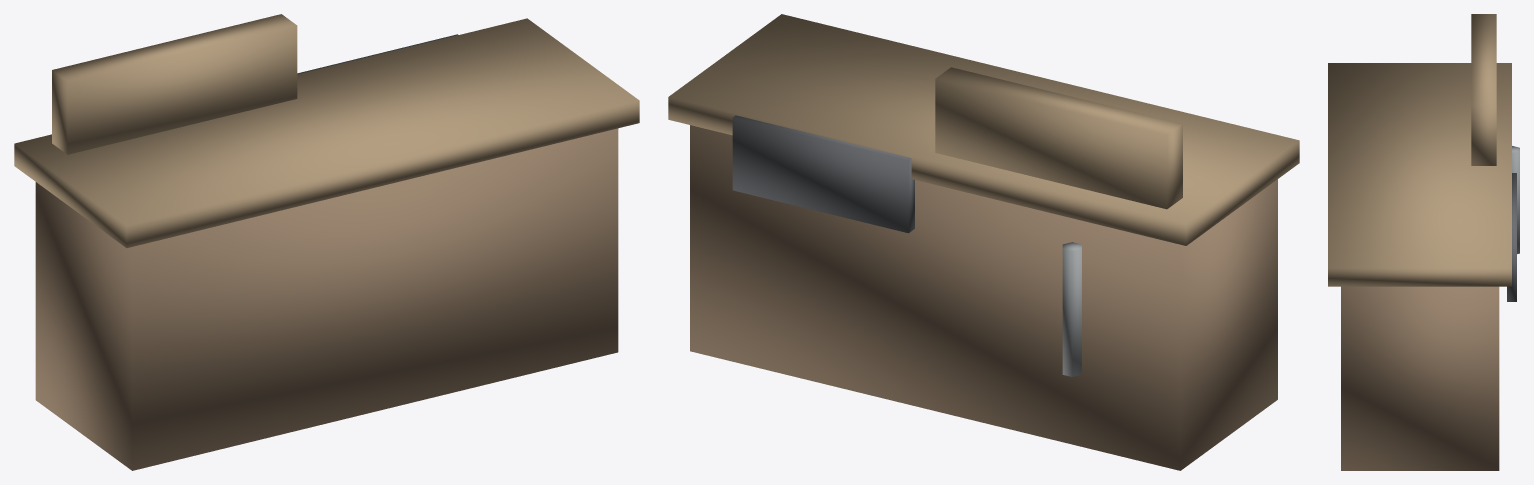
Rendered from reception_desk__service.glb.
3 views of the same model, side by side, from view 1: azimuth 30°, elevation 25°; view 2: azimuth 150°, elevation 25°; view 3: azimuth 270°, elevation 25° (orthographic). The views are drawn at different scales.
Visible parts, largest first — view 1: world; view 2: world; view 3: world.
Part boxes in pixels (left/top/right/bottom): world: left=14, top=14, right=639, bottom=470; world: left=668, top=14, right=1299, bottom=470; world: left=1328, top=14, right=1519, bottom=470.
Bounding box in the file's own units: 1.9 × 1.16 × 0.7503.
